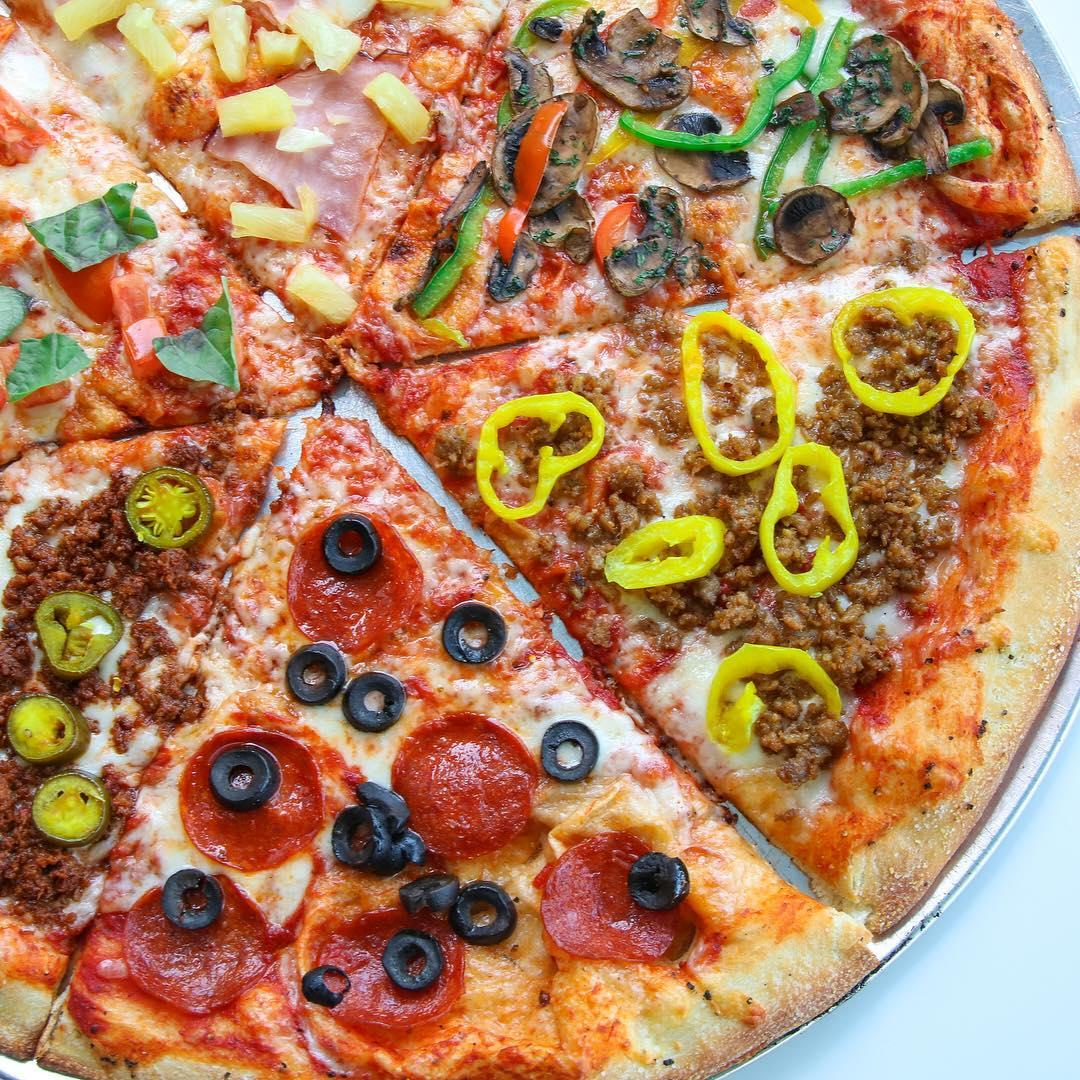Basil: (21, 181, 166, 278), (141, 299, 260, 403), (0, 331, 100, 408)
Ham: (229, 49, 393, 260)
Mushroom: (491, 85, 594, 217), (569, 9, 696, 113), (600, 183, 703, 299), (843, 26, 937, 153), (651, 103, 746, 185), (749, 185, 863, 253)
Olives: (325, 776, 421, 864), (451, 872, 516, 948), (540, 713, 601, 784), (441, 603, 509, 666), (337, 666, 406, 723), (211, 751, 273, 812), (276, 648, 341, 704), (625, 853, 683, 914), (323, 513, 379, 574)
Pepperoni: (537, 829, 688, 976), (305, 901, 474, 1027), (389, 713, 536, 857), (277, 513, 422, 656), (179, 731, 321, 874), (127, 877, 273, 1011)
Peppers: (665, 316, 783, 473), (755, 117, 1008, 190), (719, 640, 856, 773), (476, 388, 601, 523), (636, 63, 817, 147), (833, 293, 967, 403), (761, 443, 858, 593), (400, 186, 493, 319), (607, 511, 723, 588), (19, 774, 126, 855), (21, 583, 115, 672), (118, 463, 209, 540), (0, 692, 76, 759), (491, 6, 513, 181)
Pineapple: (135, 5, 356, 75), (365, 68, 431, 155), (228, 198, 327, 249), (218, 80, 285, 141), (295, 263, 353, 320), (53, 1, 123, 43)
Pizza: (0, 0, 1076, 1076)
